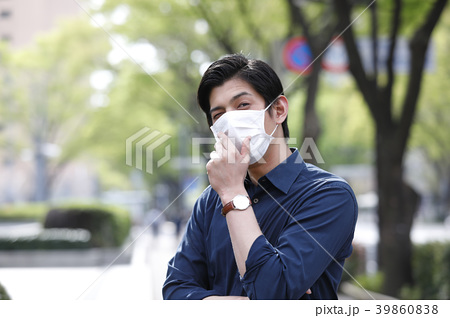mask: (207, 114, 273, 164)
